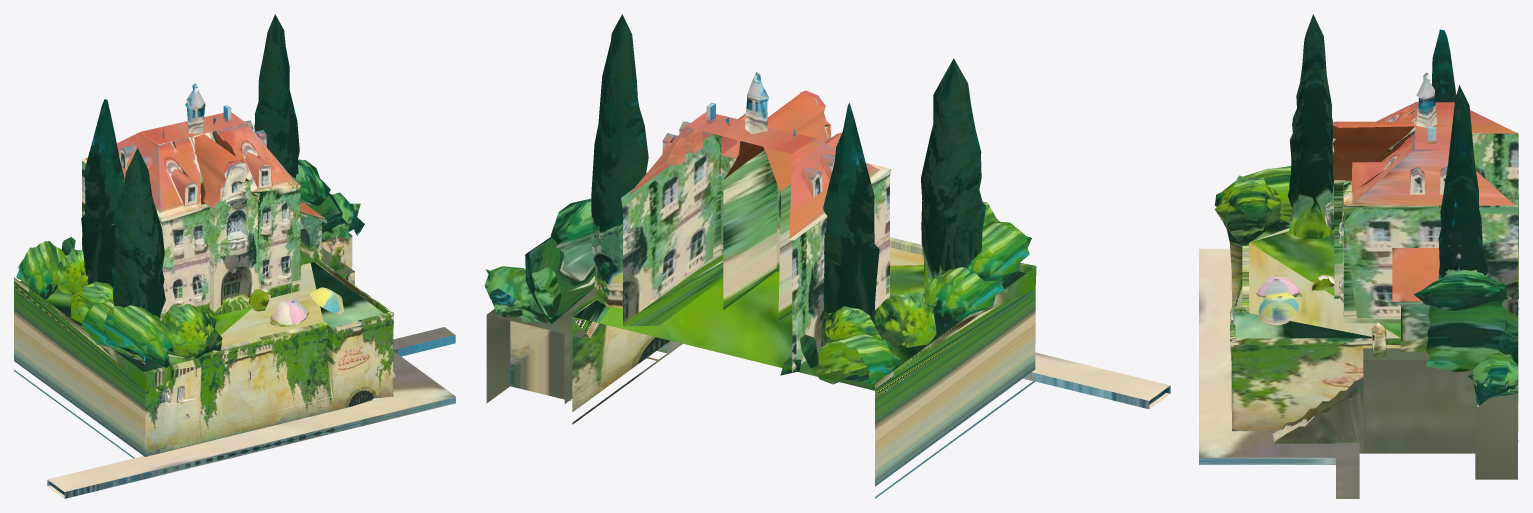
File: adriano.glb
3 views of the same model, side by side, from view 1: azimuth 30°, elevation 25°; view 2: azimuth 150°, elevation 25°; view 3: azimuth 270°, elevation 25° (orthographic). The views are drawn at different scales.
Visible parts, largest first — view 1: Plane.003_AdriaticMid_0; view 2: Plane.003_AdriaticMid_0; view 3: Plane.003_AdriaticMid_0.
Boxes of the visible parts, bbox=[...] form: Plane.003_AdriaticMid_0: bbox=[14, 14, 455, 498]; Plane.003_AdriaticMid_0: bbox=[484, 14, 1170, 498]; Plane.003_AdriaticMid_0: bbox=[1199, 14, 1518, 498].
Bounding box in the file's own units: 18.37 × 12.38 × 10.25.
2 materials, 2 textured.
